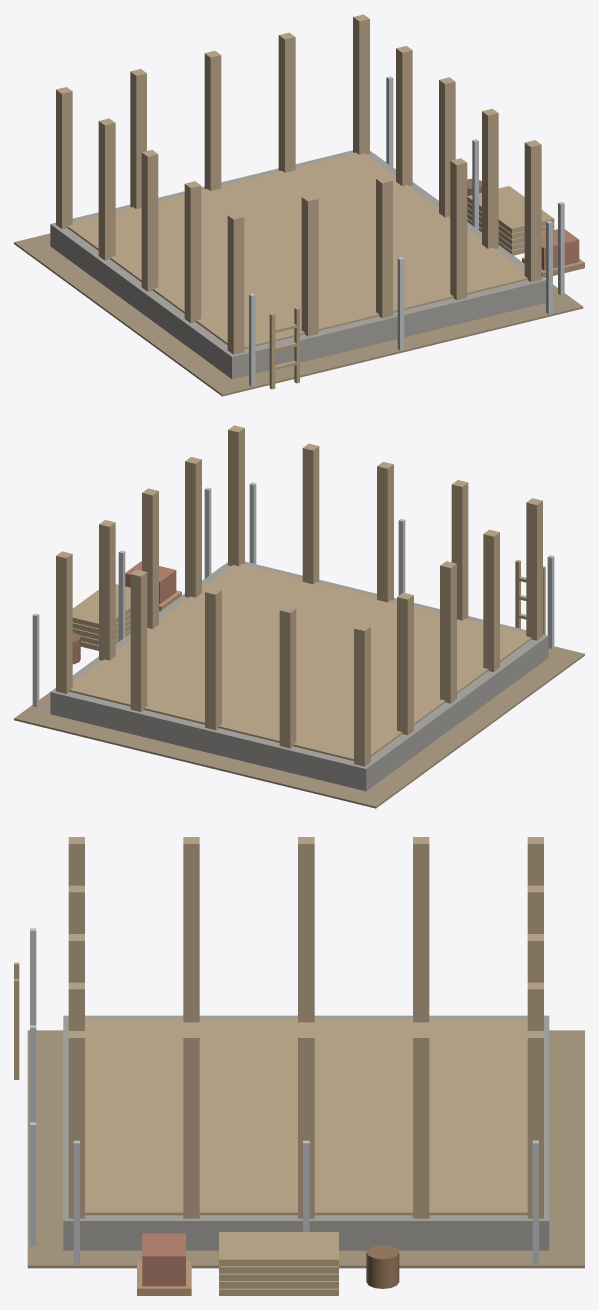
Rendered from spa_site_3.glb.
3 renders of one model, top to bottom at view 1: azimuth 30°, elevation 25°; view 2: azimuth 150°, elevation 25°; view 3: azimuth 270°, elevation 25°, orthographic. The views are drawn at different scales.
Parts seen in each view (by area): view 1: body; view 2: body; view 3: body.
Boxes of the visible parts, x1,y1,x2,y2 form: body: (14,14,584,396); body: (14,425,584,808); body: (14,837,584,1295).
Size of the model in its own units: 2.28 by 0.86 by 2.09.
